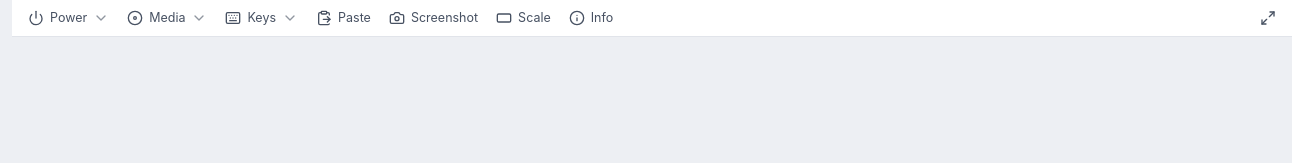
Scenario: VNCToolbar — power › offers a VM asleep in S3 the actions its QEMU state allows
The image size is (1292, 163).
Expected: the button "Media" is shown, [119, 4, 216, 32]
Click the button "Power": (69, 18) [20, 4, 117, 32]
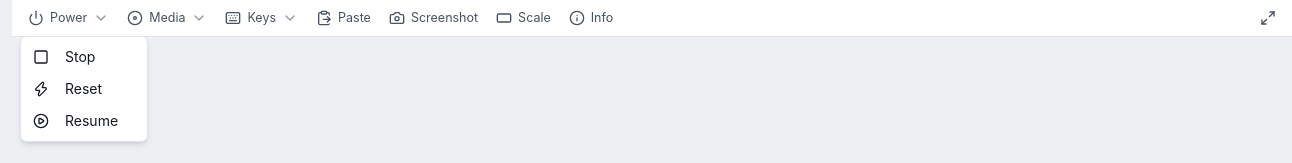
Expected: the menu items read "Stop", "Reset", "Resume", in this order, [33, 48, 95, 65]; [33, 80, 102, 97]; [33, 112, 118, 129]
